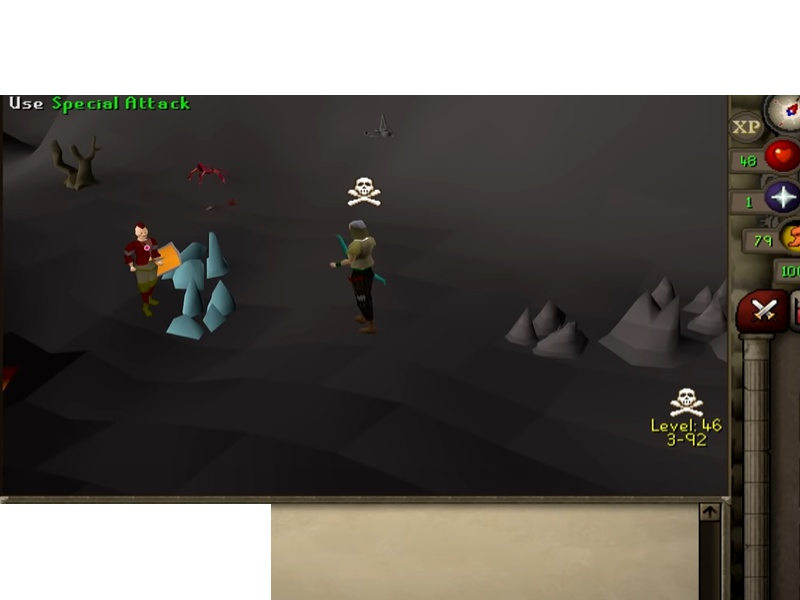rune: (162, 273, 240, 341), (161, 228, 236, 291)
